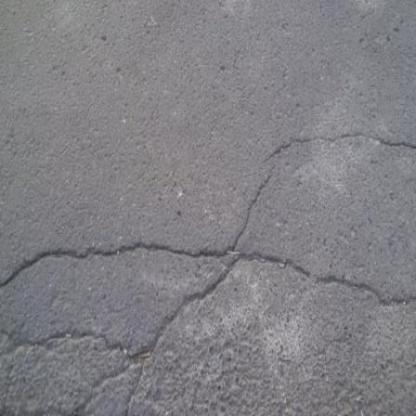Cracks: (257, 110, 416, 228), (236, 243, 416, 319), (0, 228, 235, 283), (1, 320, 158, 375), (56, 354, 166, 416), (220, 167, 280, 256)
